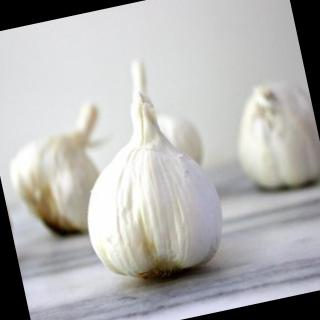Bawang Putih: (66, 95, 234, 292)
